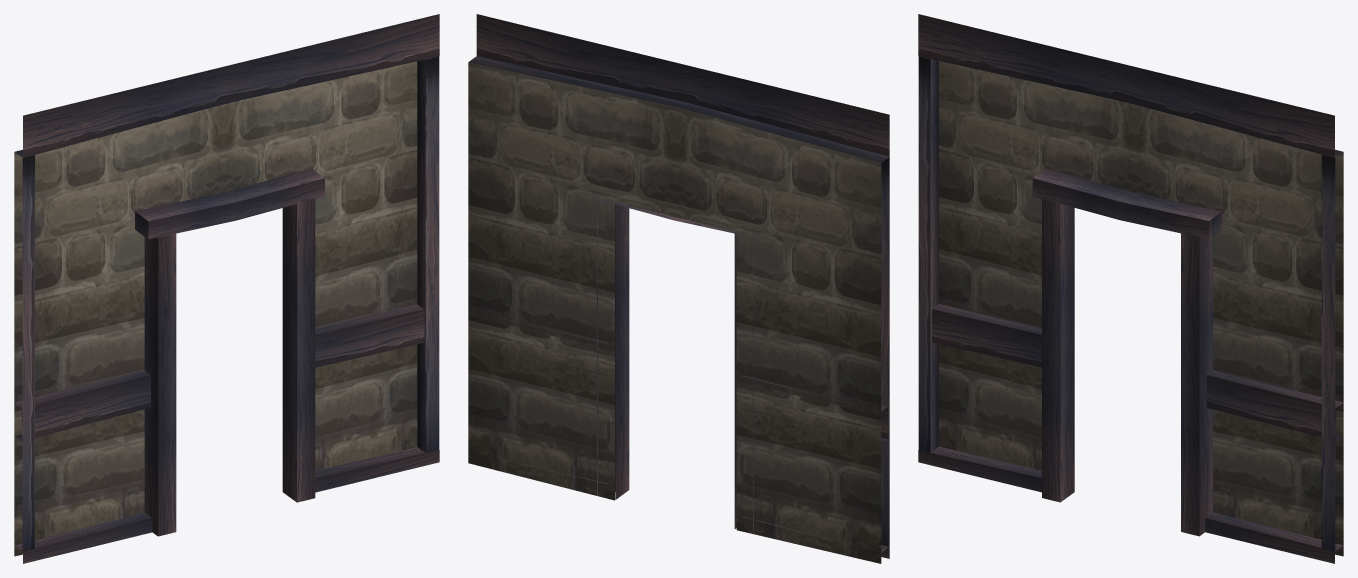
File: WallDoor_1sided_detailed_2ndFloor_Bricks.fbx
3 views of the same model, side by side, from view 1: azimuth 30°, elevation 25°; view 2: azimuth 150°, elevation 25°; view 3: azimuth 330°, elevation 25° (orthographic).
Parts seen in each view (by area): view 1: WallDoor_1sided_detailed_2ndFloor_Bricks; view 2: WallDoor_1sided_detailed_2ndFloor_Bricks; view 3: WallDoor_1sided_detailed_2ndFloor_Bricks.
Boxes of the visible parts, x1,y1,x2,y2 form: WallDoor_1sided_detailed_2ndFloor_Bricks: (14,14,439,563); WallDoor_1sided_detailed_2ndFloor_Bricks: (468,14,889,563); WallDoor_1sided_detailed_2ndFloor_Bricks: (918,14,1343,563).
Bounding box in the file's own units: 0.6266 × 0.646 × 0.0371.
